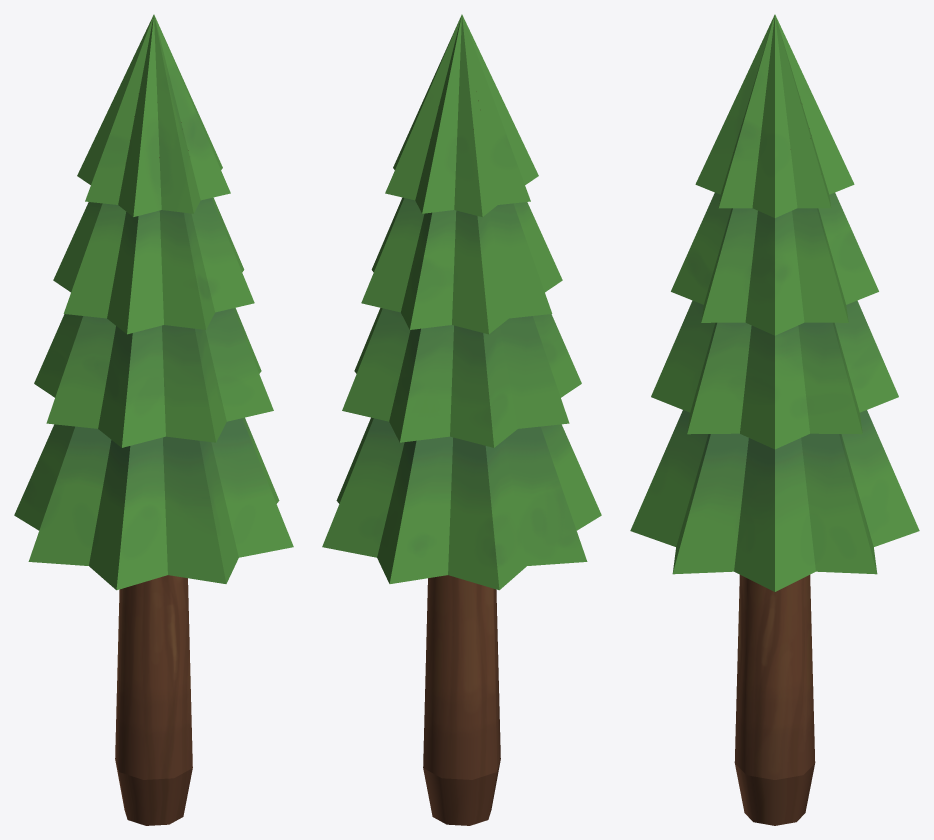
The model's file is Tree_03.fbx.
The picture shows the model from 3 angles, left to right: view 1: azimuth 30°, elevation 25°; view 2: azimuth 150°, elevation 25°; view 3: azimuth 270°, elevation 25°; orthographic projection.
Visible parts, largest first — view 1: Plane; view 2: Plane; view 3: Plane.
Boxes of the visible parts, x1,y1,x2,y2 form: Plane: [14, 14, 293, 825]; Plane: [322, 14, 601, 825]; Plane: [630, 14, 919, 825].
Size of the model in its own units: 869 by 869 by 2647.
1 material, 1 textured.
